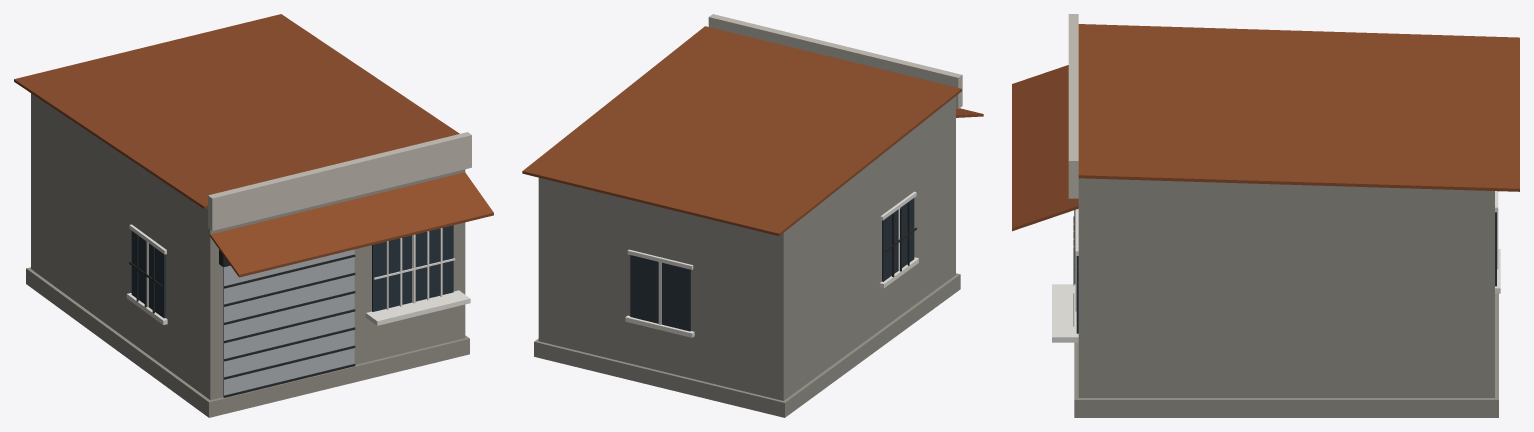
Rendered from BAY_F_Shop_J.glb.
The picture shows the model from 3 angles, left to right: view 1: azimuth 30°, elevation 25°; view 2: azimuth 150°, elevation 25°; view 3: azimuth 270°, elevation 25°; orthographic projection. The views are drawn at different scales.
Parts seen in each view (by area): view 1: BAY_F_Shop_J; view 2: BAY_F_Shop_J; view 3: BAY_F_Shop_J.
Part boxes in pixels (bbox=[...]): BAY_F_Shop_J: bbox=[14, 14, 493, 417]; BAY_F_Shop_J: bbox=[522, 14, 983, 417]; BAY_F_Shop_J: bbox=[1012, 14, 1519, 417].
Size of the model in its own units: 4.3 by 3.4 by 6.1.
1 material, 1 textured.
